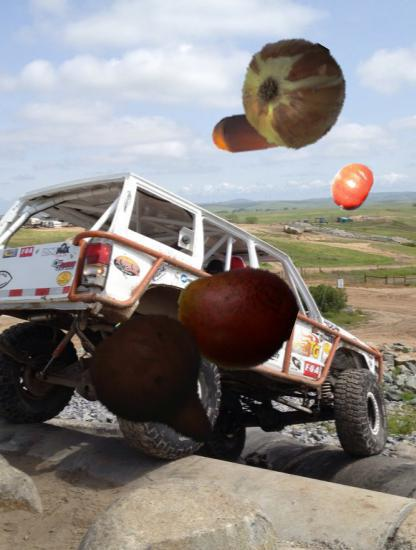Clementine: (325, 161, 377, 213)
Hazelnut: (211, 88, 300, 177)
Mango: (176, 257, 294, 375)
Onion: (237, 37, 348, 148)
Pear: (85, 311, 235, 461)
